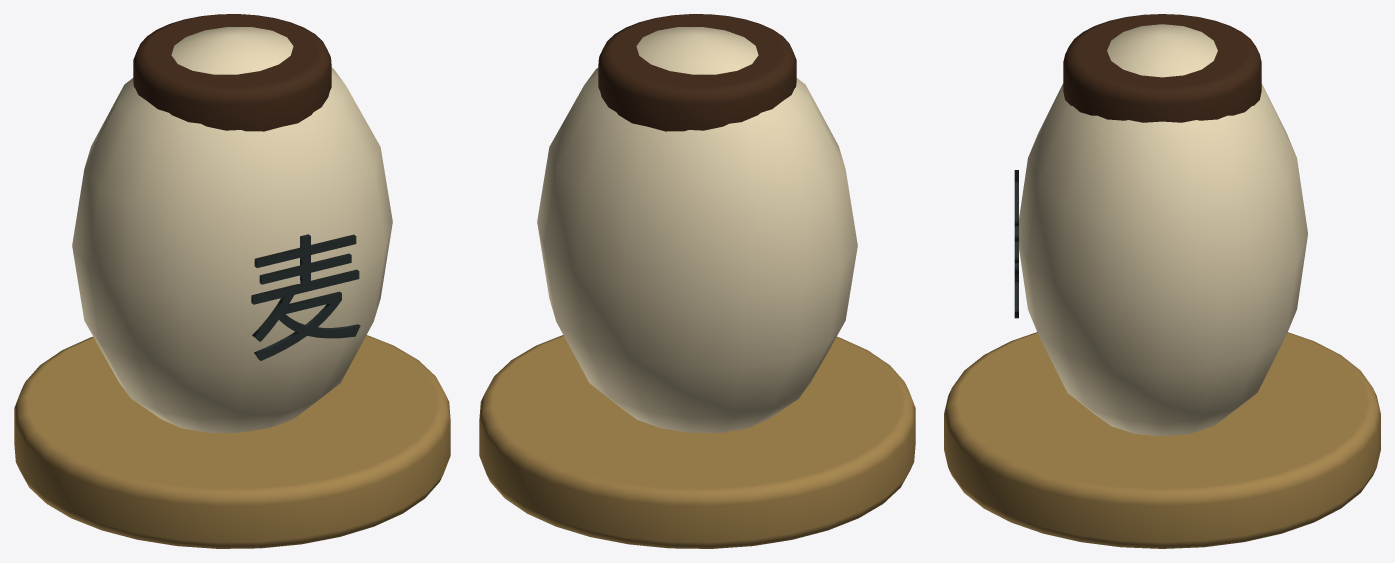
The model's file is Token_Grain.fbx.
3 renders of one model, left to right at view 1: azimuth 30°, elevation 25°; view 2: azimuth 150°, elevation 25°; view 3: azimuth 270°, elevation 25°, orthographic.
Parts seen in each view (by area): view 1: Grain sack.001, Grain base.001, Sack tie.001, Grain label.001; view 2: Grain sack.001, Grain base.001, Sack tie.001; view 3: Grain sack.001, Grain base.001, Sack tie.001, Grain label.001.
Boxes of the visible parts, left/top/right/bottom form: Grain sack.001: left=72, top=27, right=392, bottom=432; Grain base.001: left=14, top=335, right=450, bottom=548; Sack tie.001: left=133, top=14, right=331, bottom=131; Grain label.001: left=251, top=234, right=360, bottom=360; Grain sack.001: left=537, top=27, right=857, bottom=432; Grain base.001: left=479, top=335, right=915, bottom=548; Sack tie.001: left=598, top=14, right=796, bottom=131; Grain sack.001: left=1019, top=24, right=1307, bottom=436; Grain base.001: left=944, top=332, right=1380, bottom=548; Sack tie.001: left=1063, top=14, right=1261, bottom=122; Grain label.001: left=1014, top=170, right=1018, bottom=318.
Bounding box in the file's own units: 0.066 × 0.071 × 0.066.
